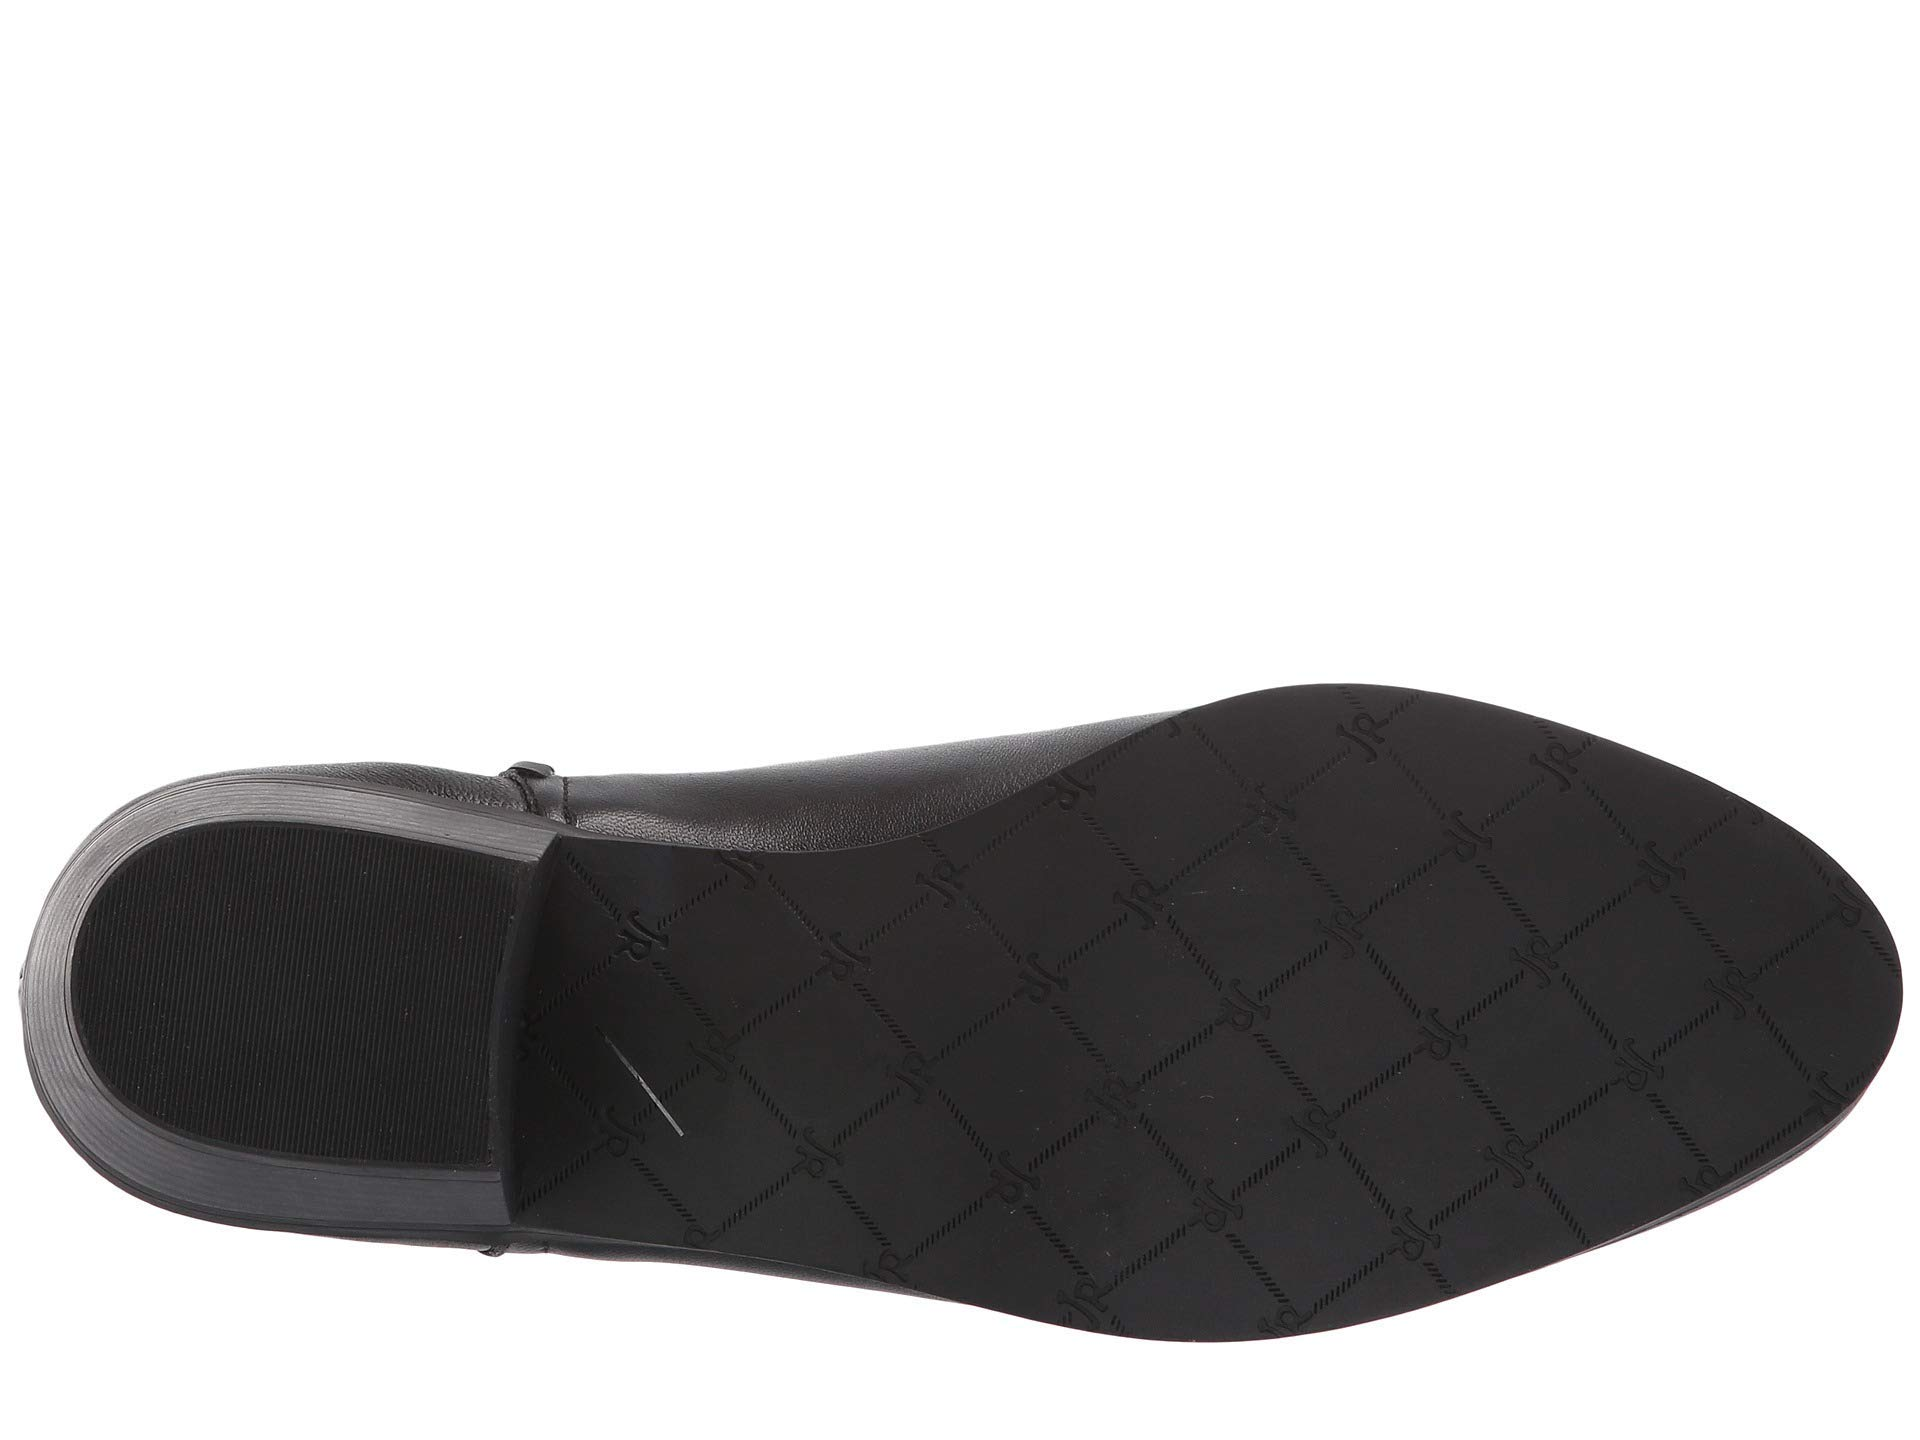exclude: (494, 821, 978, 1299)
quad: (1116, 762, 1663, 1206)
text: (1116, 762, 1663, 1206)
